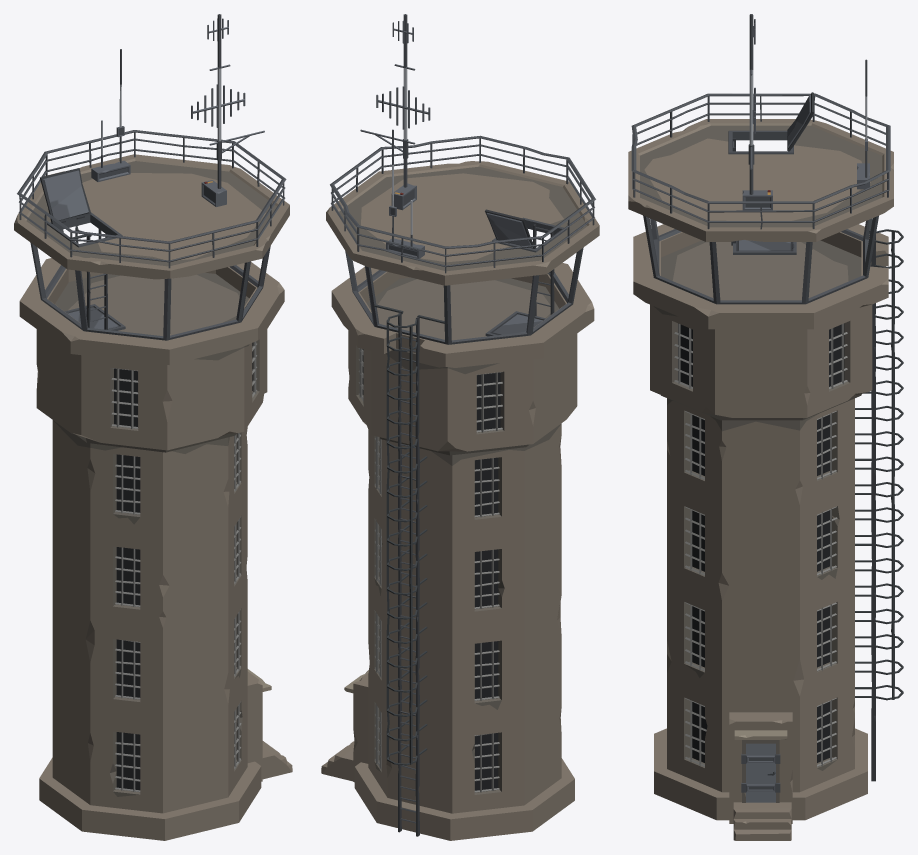
File: SM_Bld_ControlTower_01.fbx
3 views of the same model, side by side, from view 1: azimuth 30°, elevation 25°; view 2: azimuth 150°, elevation 25°; view 3: azimuth 270°, elevation 25° (orthographic). The views are drawn at different scales.
Parts seen in each view (by area): view 1: SM_Bld_ControlTower_01; view 2: SM_Bld_ControlTower_01; view 3: SM_Bld_ControlTower_01.
Part boxes in pixels (<box>): SM_Bld_ControlTower_01: <box>14,14,292,840</box>; SM_Bld_ControlTower_01: <box>321,14,599,840</box>; SM_Bld_ControlTower_01: <box>628,14,903,840</box>.
Size of the model in its own units: 972 by 2969 by 935.
